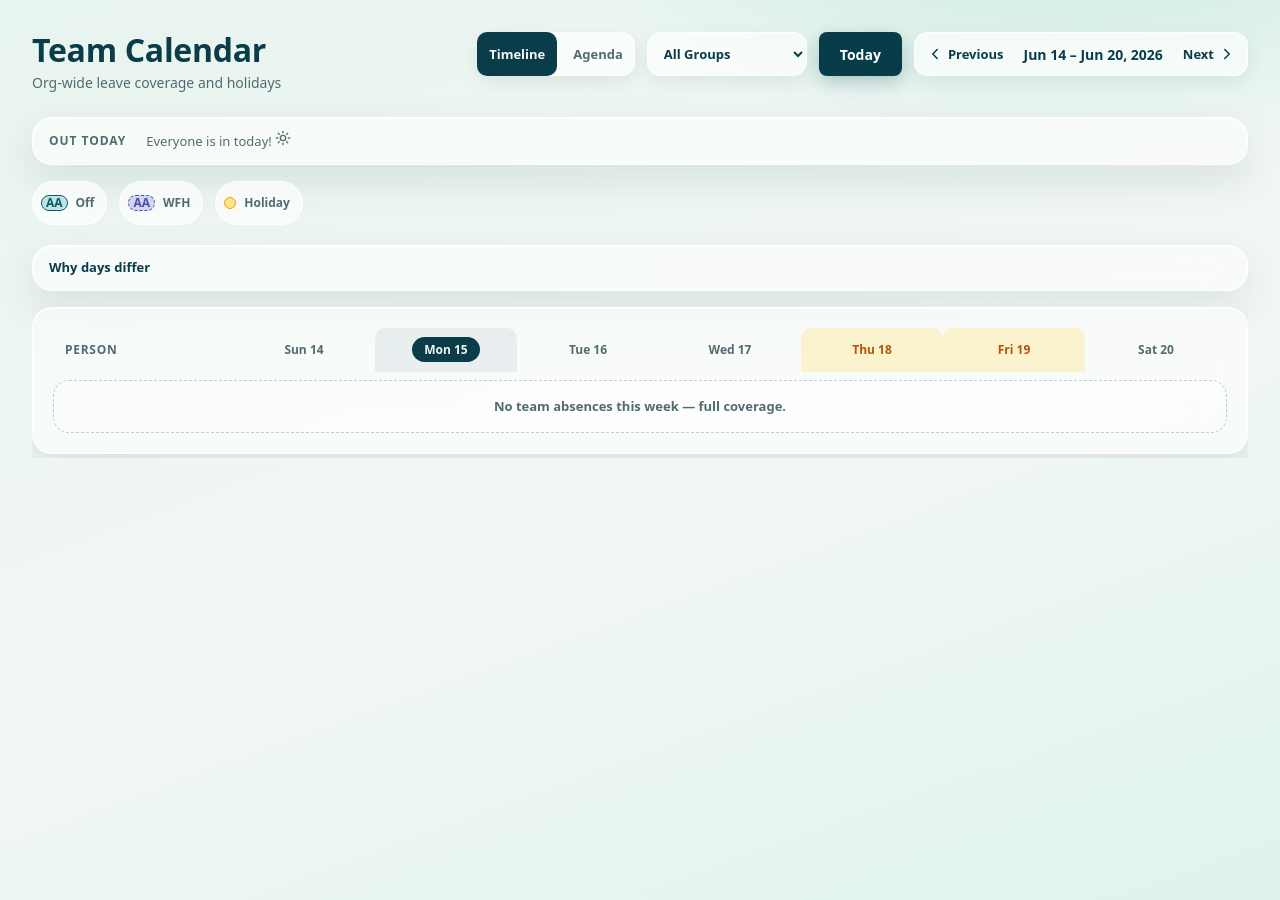
Test: TeamCalendarPage › [P0] fetches both months for a cross-month Timeline week and deduplicates entries
This screenshot has width=1280, height=900.
Expected: the element with test id "calendar-timeline" is shown, [32,307,1248,458]
Click the button with test id "calendar-next-week": x=1209, y=54 [1171,32,1248,76]
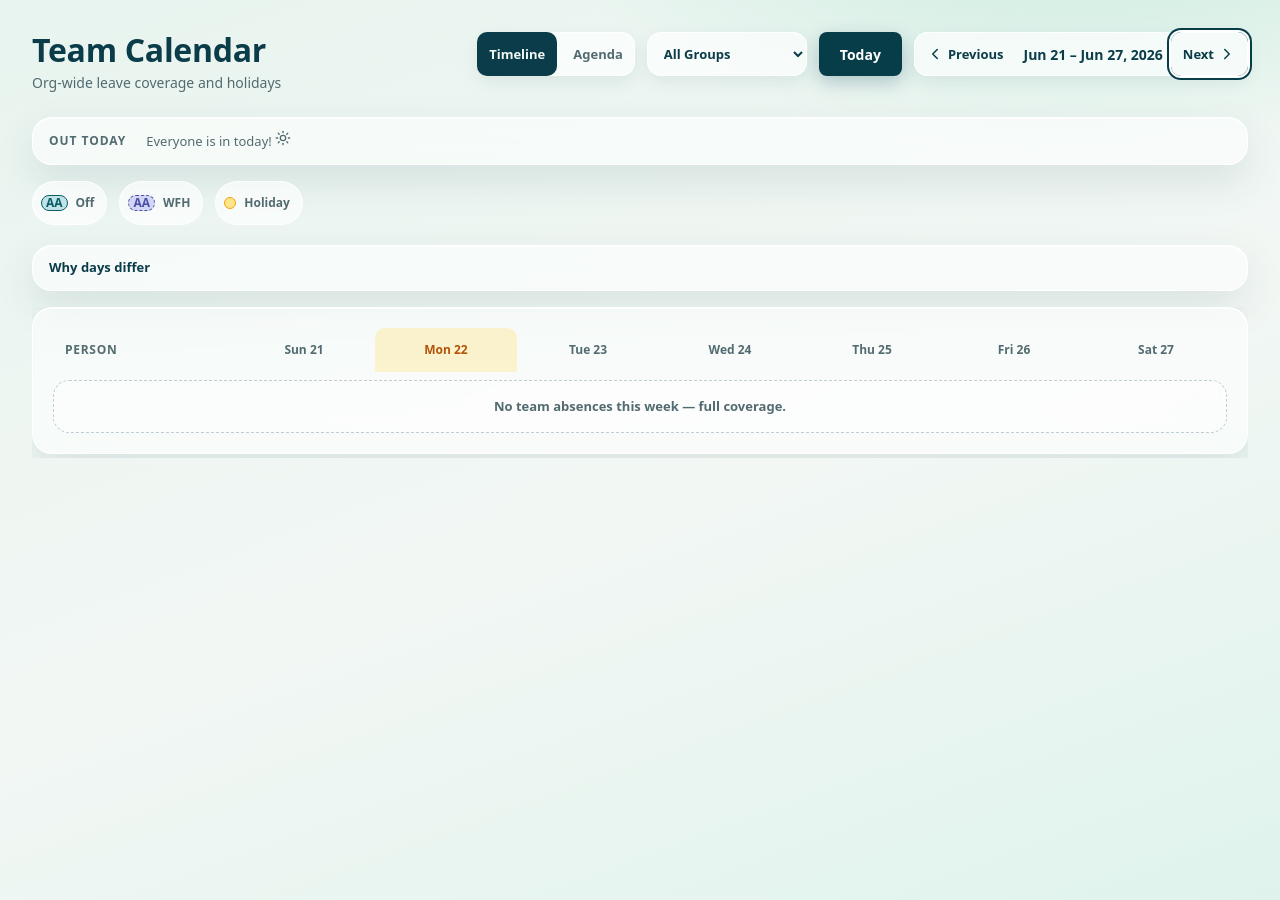
Click the button with test id "calendar-next-week": x=1209, y=54 [1171,32,1248,76]
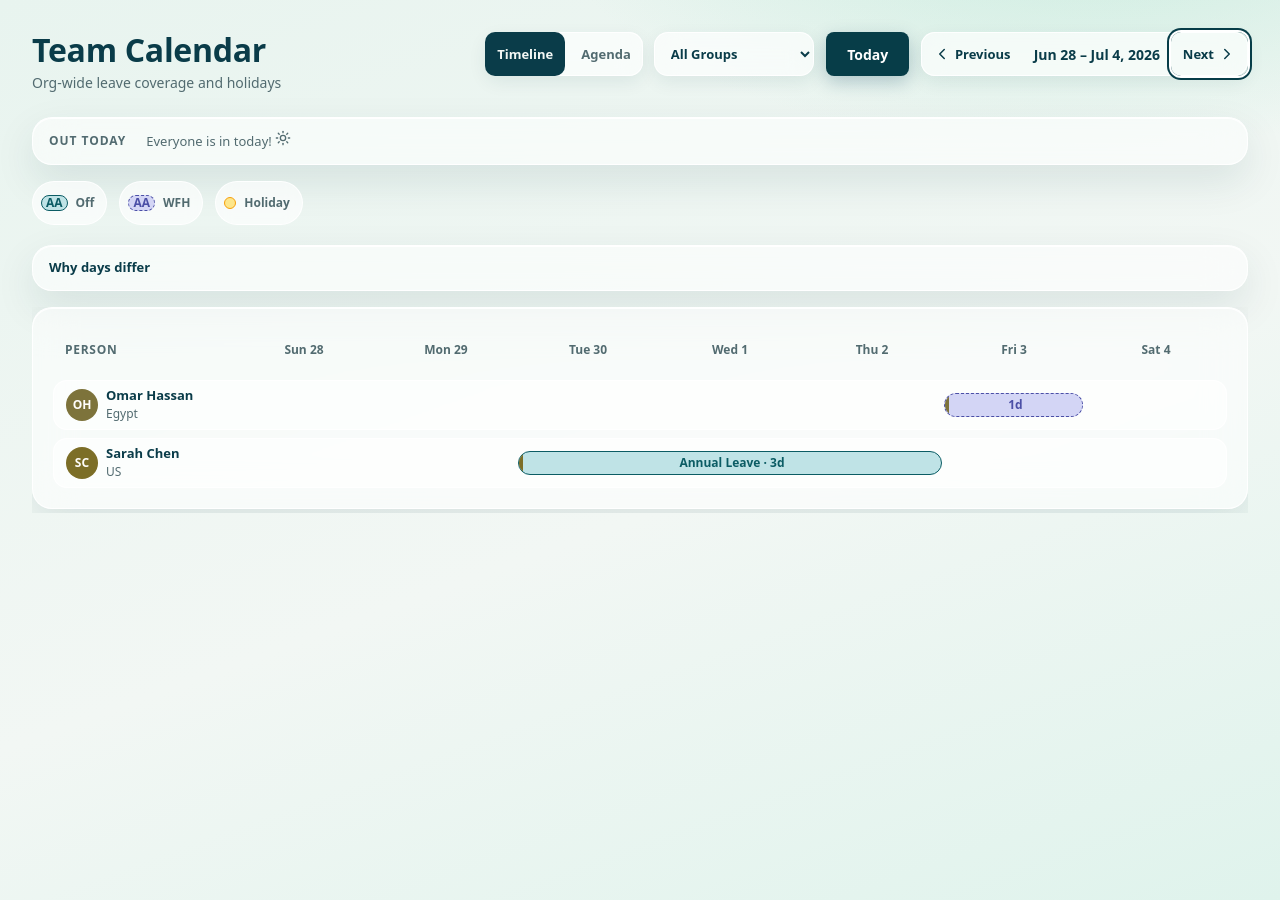
Expected: the text "Jun 28 – Jul 4, 2026" is shown, [1034,44,1160,64]
Expected: the number of links with test id "calendar-event-88" is 1, [518,451,942,475]
Expected: the text "1d" is shown, [944,393,1083,417]
